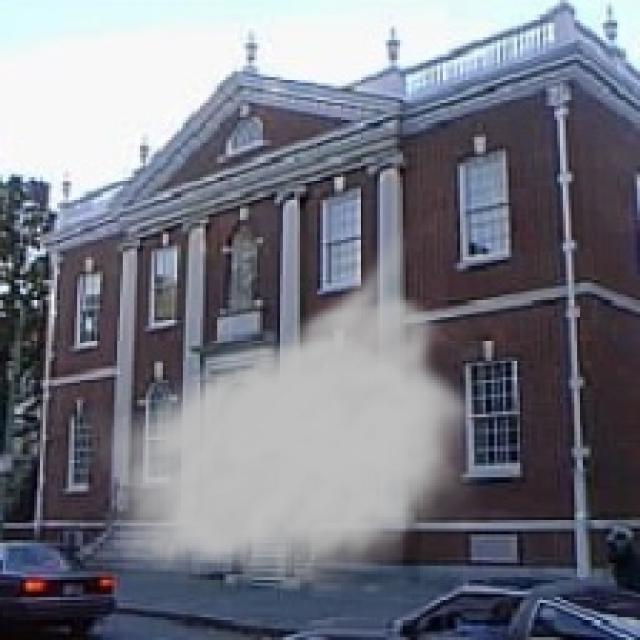Smoke: (82, 222, 488, 598)
